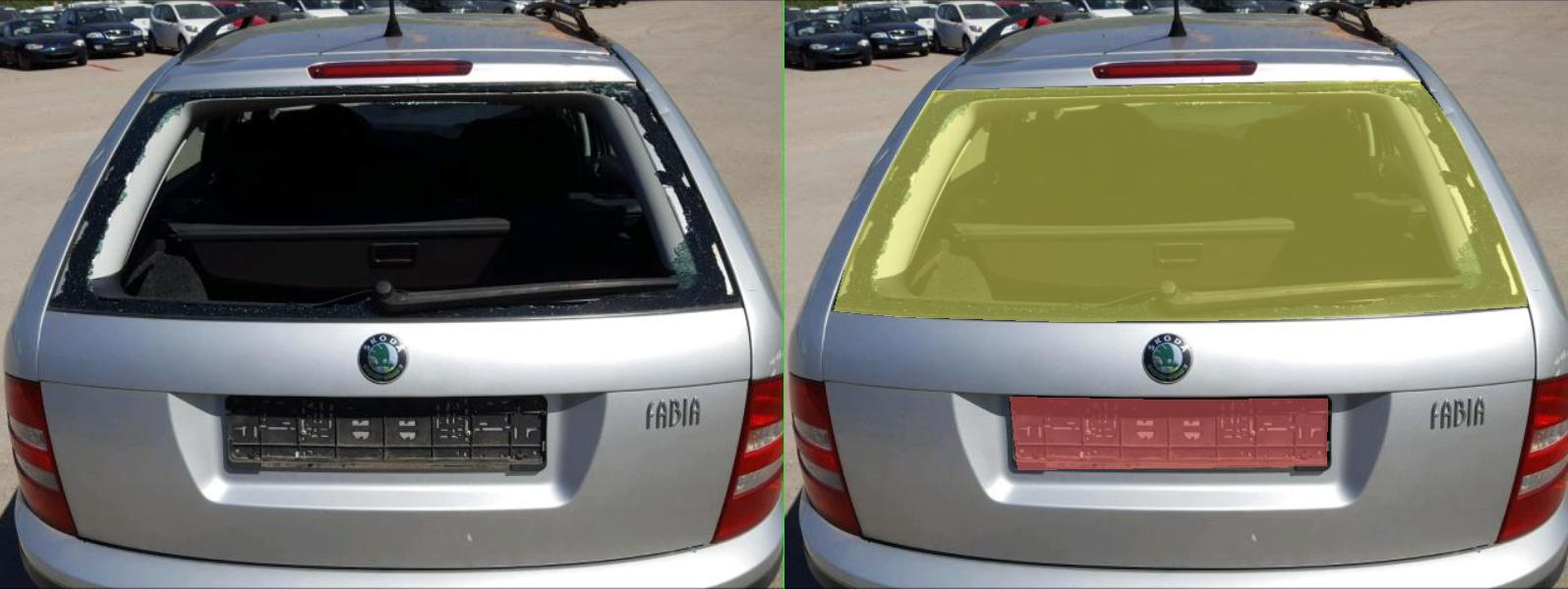Cracked: (98, 80, 1485, 321)
Missing part: (451, 397, 1086, 469)
